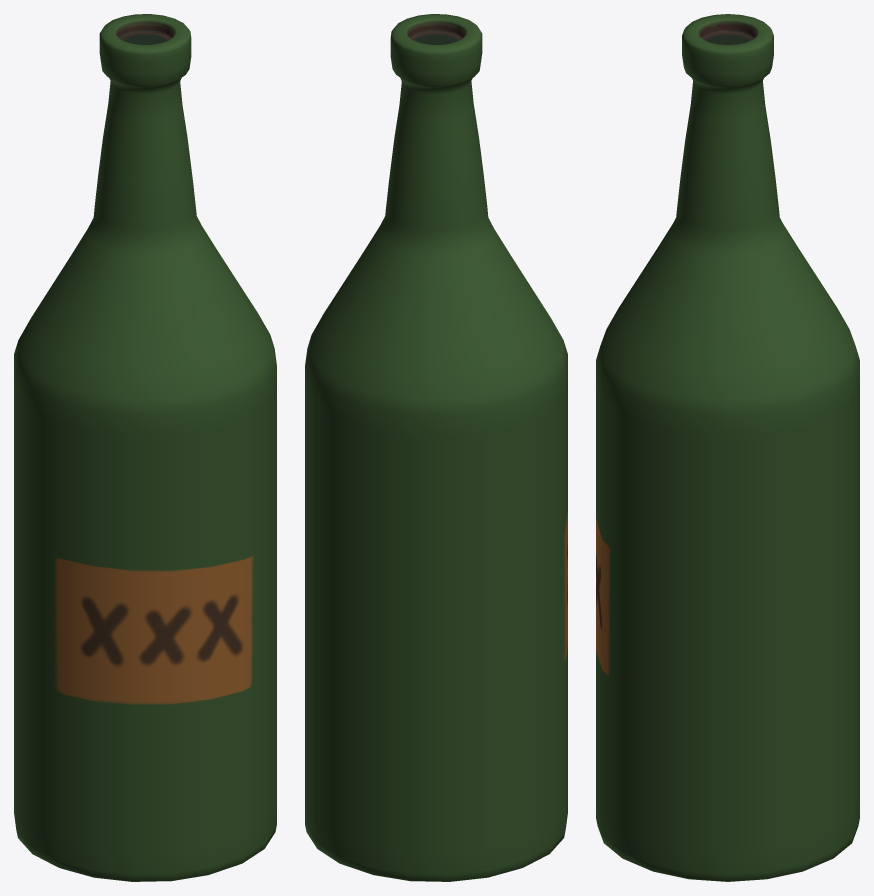
The model's file is bottle.fbx.
The picture shows the model from 3 angles, left to right: view 1: azimuth 30°, elevation 25°; view 2: azimuth 150°, elevation 25°; view 3: azimuth 270°, elevation 25°; orthographic projection.
Visible parts, largest first — view 1: bottle; view 2: bottle; view 3: bottle.
Part boxes in pixels (bbox=[...]): bottle: bbox=[14, 14, 276, 881]; bottle: bbox=[305, 14, 567, 881]; bottle: bbox=[596, 14, 859, 881].
Size of the model in its own units: 4.94 by 16.44 by 4.93.
